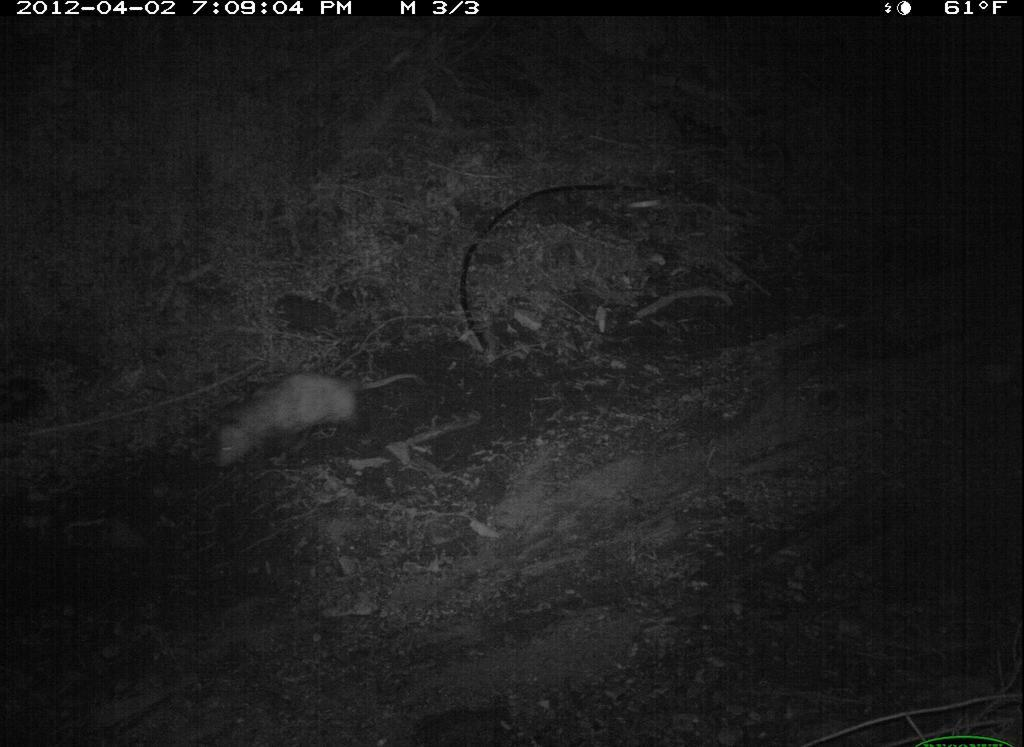opossum: (205, 364, 434, 482)
